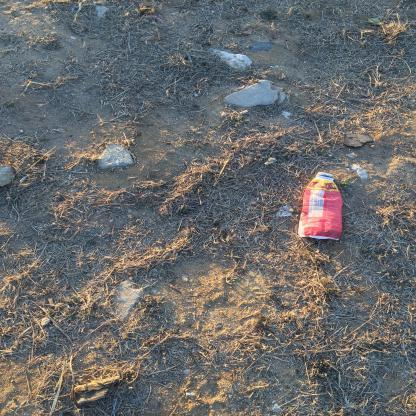plastik: (299, 173, 344, 242)
